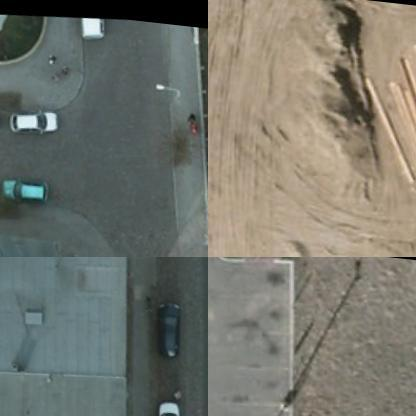car: (156, 294, 192, 352), (10, 106, 66, 136), (3, 175, 56, 203), (159, 394, 194, 415)
